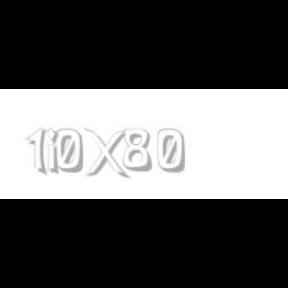0: (56, 128, 86, 174), (158, 128, 188, 174)
1: (26, 128, 48, 176)
8: (122, 128, 152, 172)
X: (83, 128, 127, 180)
i: (46, 128, 62, 176)
